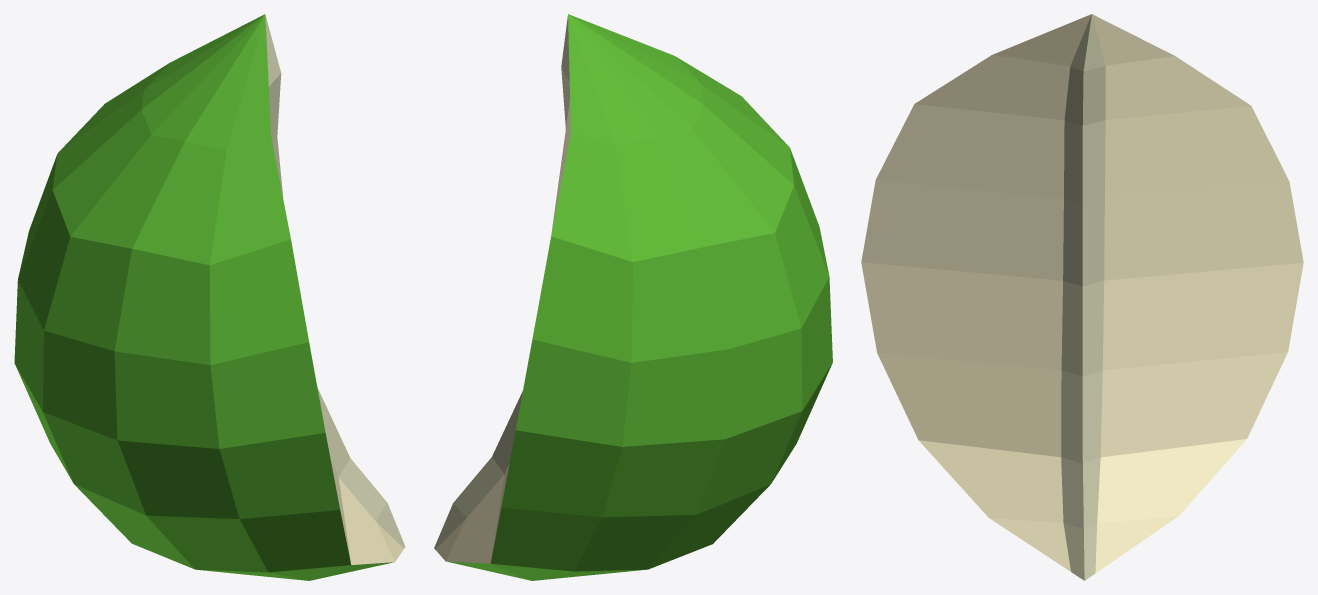
Rendered from Green Apple Slice.fbx.
3 views of the same model, side by side, from view 1: azimuth 30°, elevation 25°; view 2: azimuth 150°, elevation 25°; view 3: azimuth 270°, elevation 25° (orthographic). The views are drawn at different scales.
Visible parts, largest first — view 1: Green Apple Slice; view 2: Green Apple Slice; view 3: Green Apple Slice.
Boxes of the visible parts, x1,y1,x2,y2 form: Green Apple Slice: (14, 14, 405, 580); Green Apple Slice: (434, 14, 832, 580); Green Apple Slice: (861, 14, 1303, 580).
Bounding box in the file's own units: 4.46 × 6.61 × 5.23.
